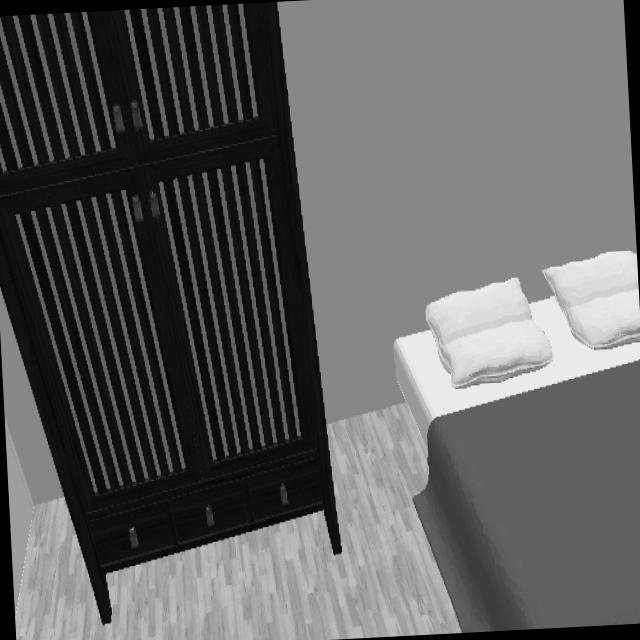bed: (394, 253, 640, 633)
pillow: (426, 278, 553, 389), (542, 253, 640, 354)
wardrobe: (0, 2, 342, 625)
